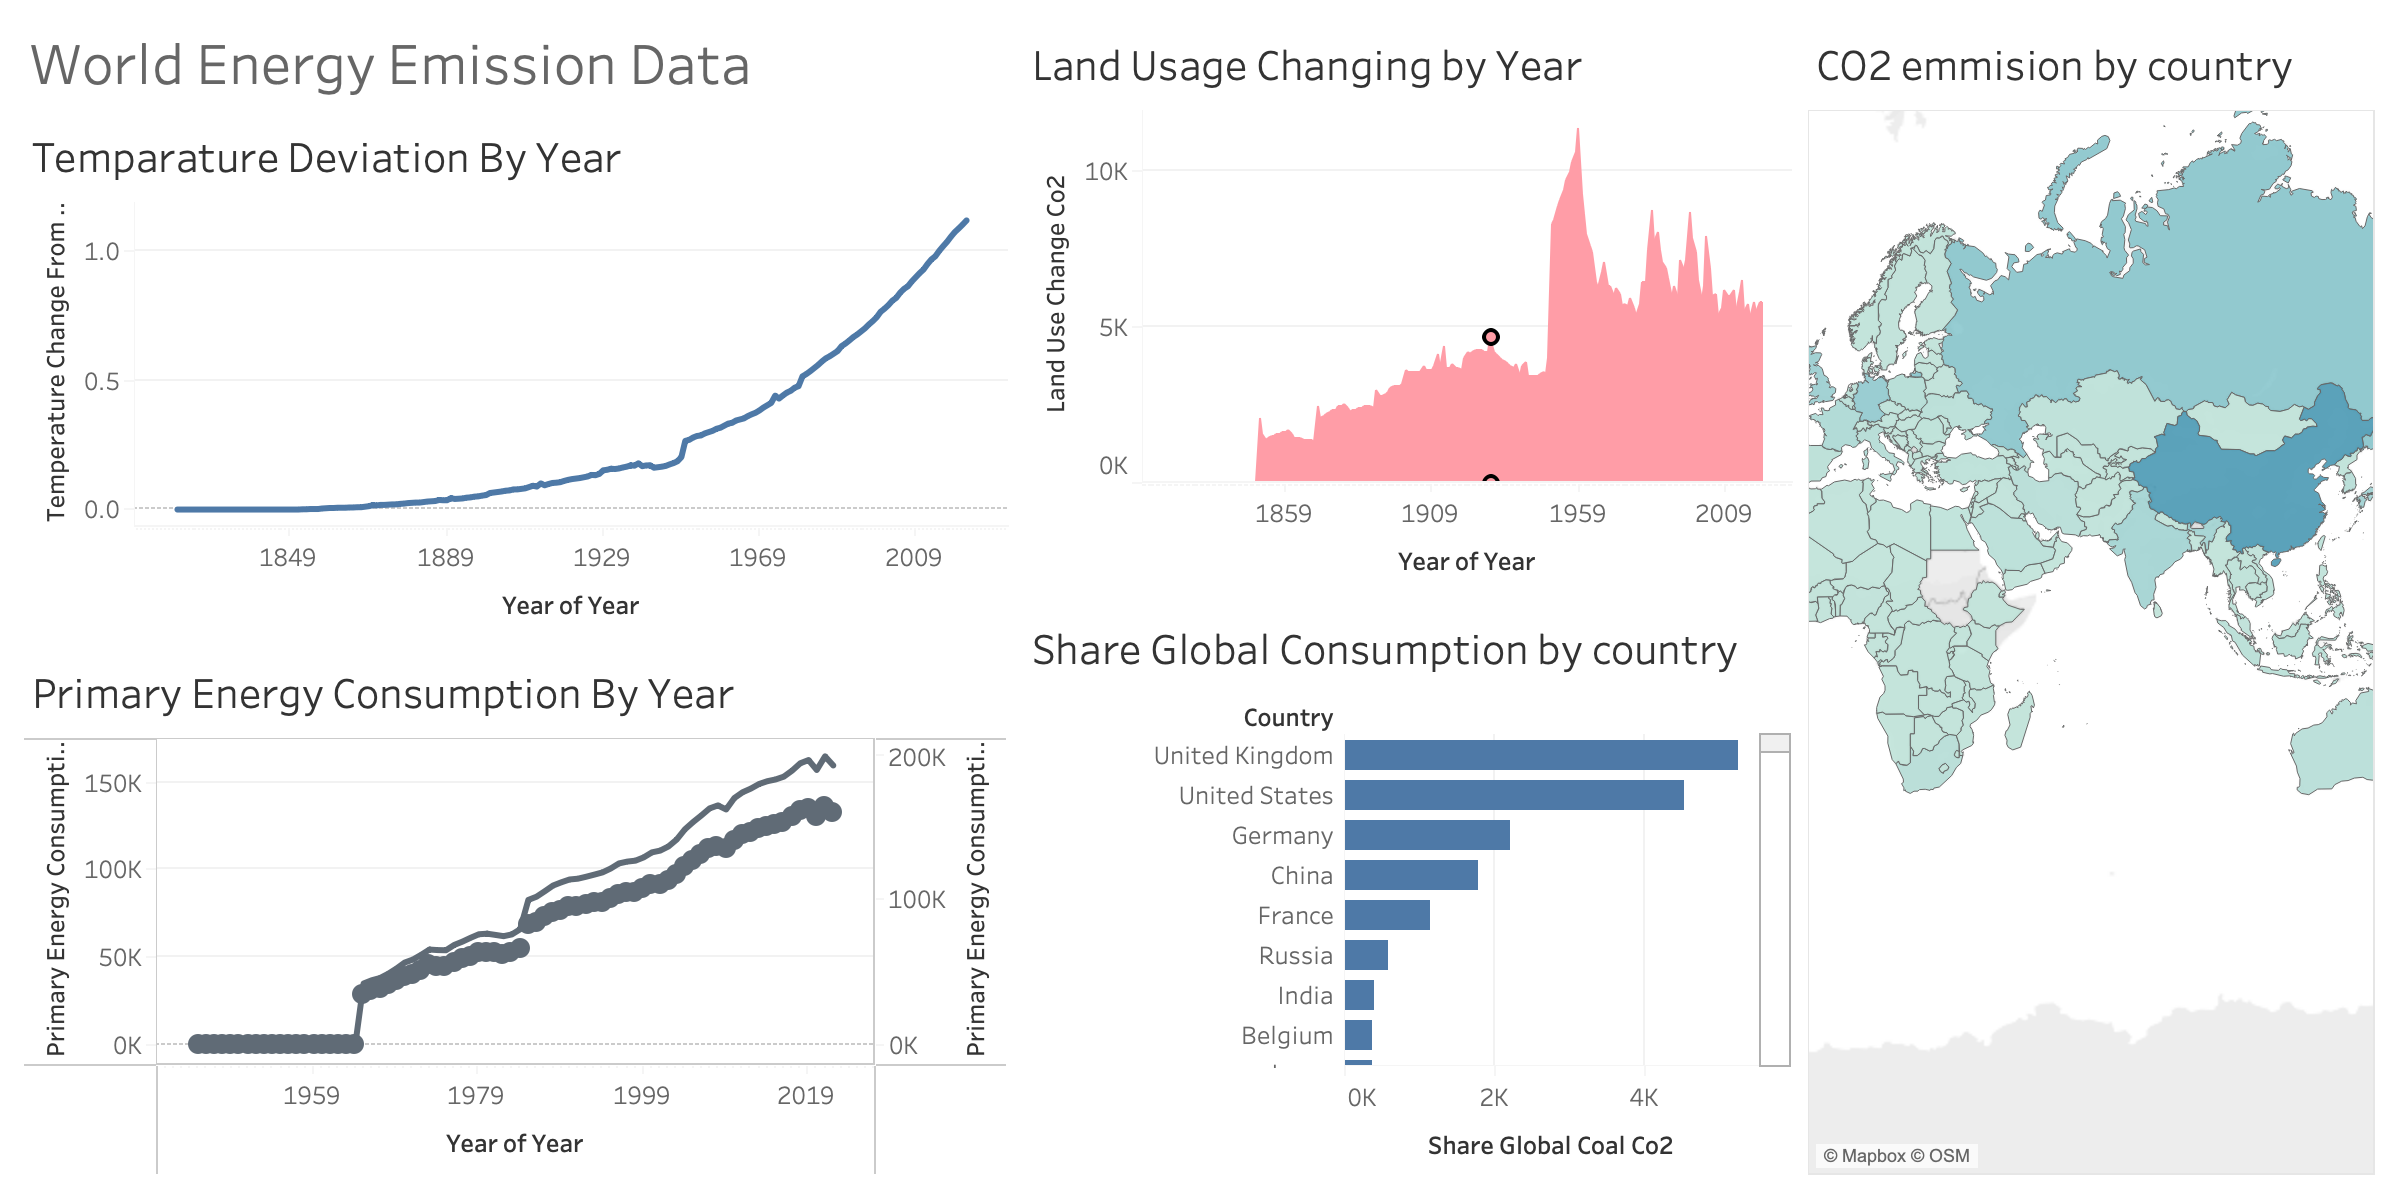

The dashboard page shown, as its layout file describes it:
{"tool":"tableau","page":{"name":"Dashboard 1","canvas":[1200,600],"ordinal":0},"visuals":[{"type":"text","box":[8,8,500,46]},{"type":"worksheet","title":"Sheet 6","mark":"Area","rows":["land_use_change_co2"],"cols":["year"],"box":[508,8,392,292]},{"type":"worksheet","title":"Sheet 2","mark":"Automatic","box":[900,8,292,584]},{"type":"worksheet","title":"Sheet 1","mark":"Line","rows":["temperature_change_from_co2"],"cols":["year"],"box":[8,54,500,268.5]},{"type":"worksheet","title":"Sheet 5","mark":"Automatic","rows":["country"],"cols":["share_global_coal_co2"],"box":[508,300,392,292]},{"type":"worksheet","title":"Sheet 4","mark":"Automatic","rows":["primary_energy_consumption","primary_energy_consumption"],"cols":["year"],"box":[8,322.5,500,269.5]}]}

Visuals, with their boxes in screenshot pixels (x1, y1, x2, y2), scaled from the page's 1200x600 canvas onto the 2400x1200 screenshot:
text: (16,16,1016,108)
"Sheet 6" worksheet (Area marks): (1016,16,1800,600)
"Sheet 2" worksheet: (1800,16,2384,1184)
"Sheet 1" worksheet (Line marks): (16,108,1016,645)
"Sheet 5" worksheet: (1016,600,1800,1184)
"Sheet 4" worksheet: (16,645,1016,1184)
